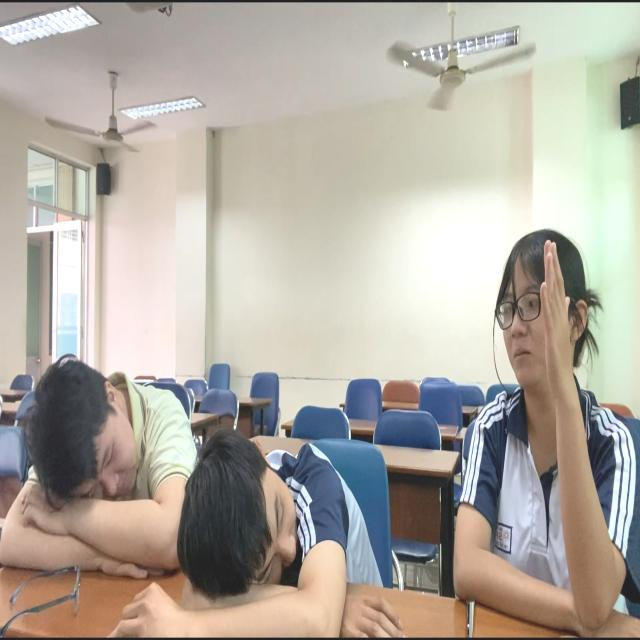raise_hand: (459, 220, 637, 629)
sleep: (127, 423, 405, 640), (1, 367, 224, 577)
